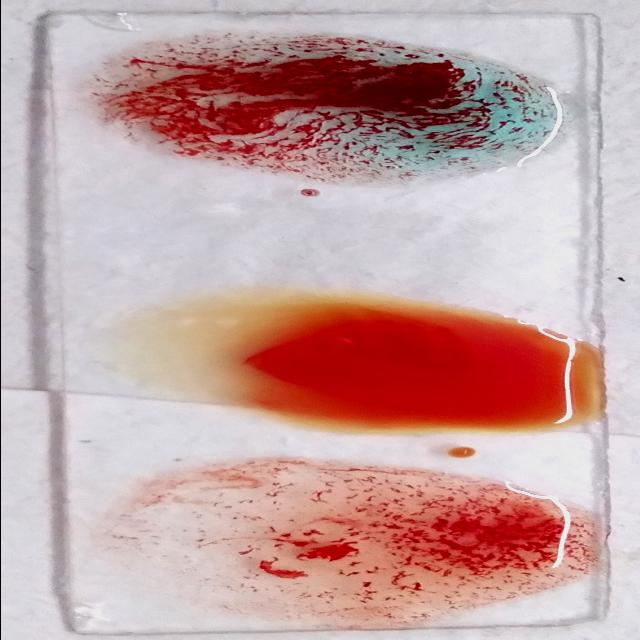A: (100, 37, 556, 171)
D: (101, 466, 592, 625)
